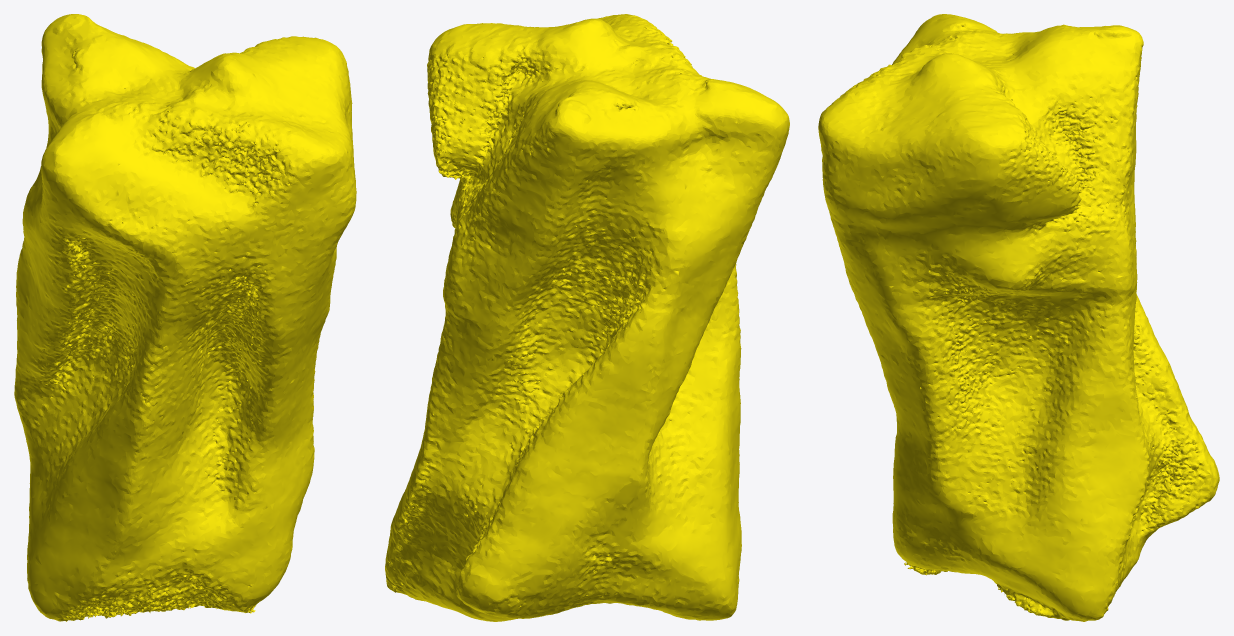
Rendered from NP_chiral.glb.
3 views of the same model, side by side, from view 1: azimuth 30°, elevation 25°; view 2: azimuth 150°, elevation 25°; view 3: azimuth 270°, elevation 25° (orthographic). The views are drawn at different scales.
Visible parts, largest first — view 1: NP_chiral; view 2: NP_chiral; view 3: NP_chiral.
Part boxes in pixels (x1,y1,x2,y2): NP_chiral: (14, 14, 356, 621); NP_chiral: (385, 14, 789, 621); NP_chiral: (818, 14, 1219, 621).
Size of the model in its own units: 3.64 by 5.92 by 4.12.
